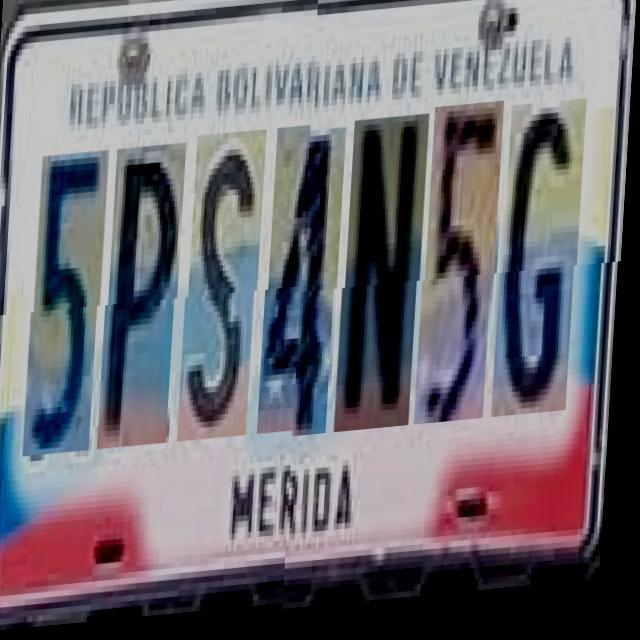4: (266, 134, 348, 445)
5: (422, 111, 506, 433), (30, 158, 110, 463)
G: (499, 110, 588, 428)
N: (342, 123, 432, 440)
P: (105, 152, 188, 458)
S: (185, 140, 268, 451)
